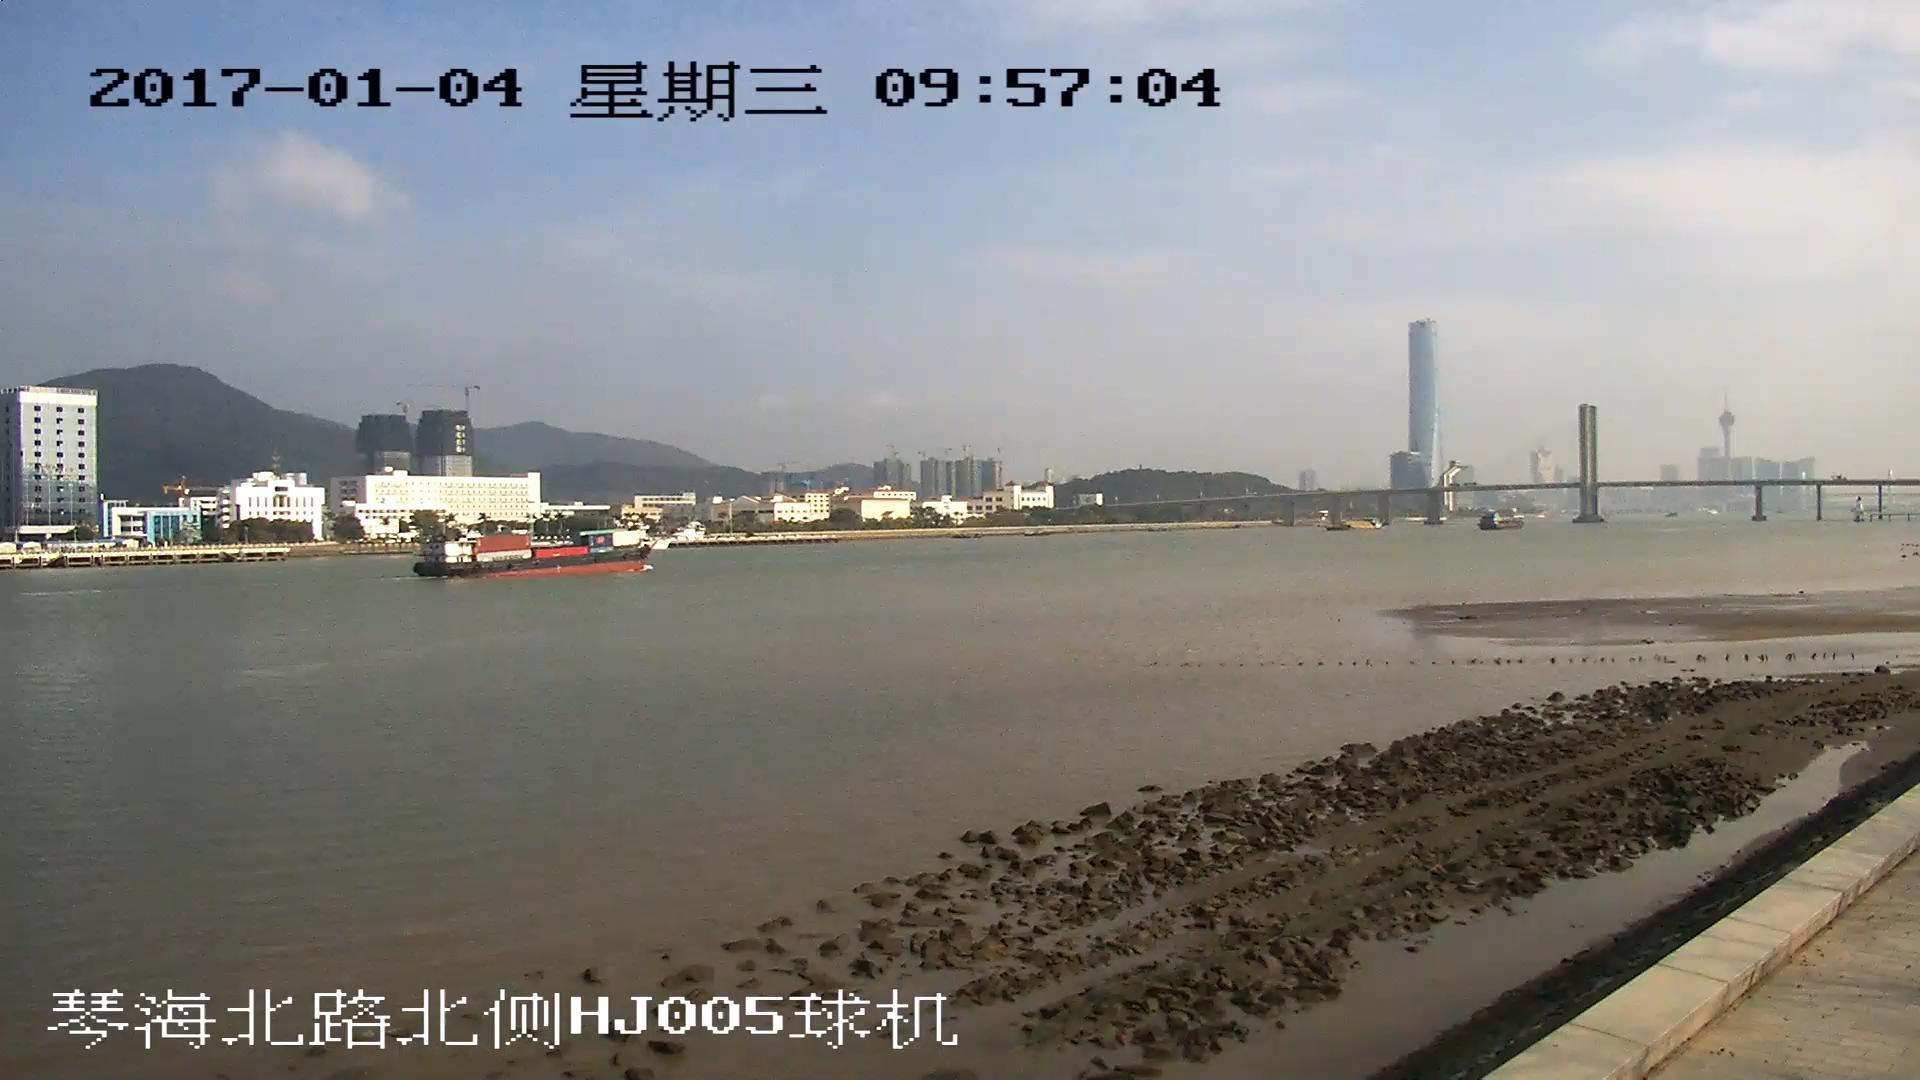Ship: (411, 529, 647, 576)
